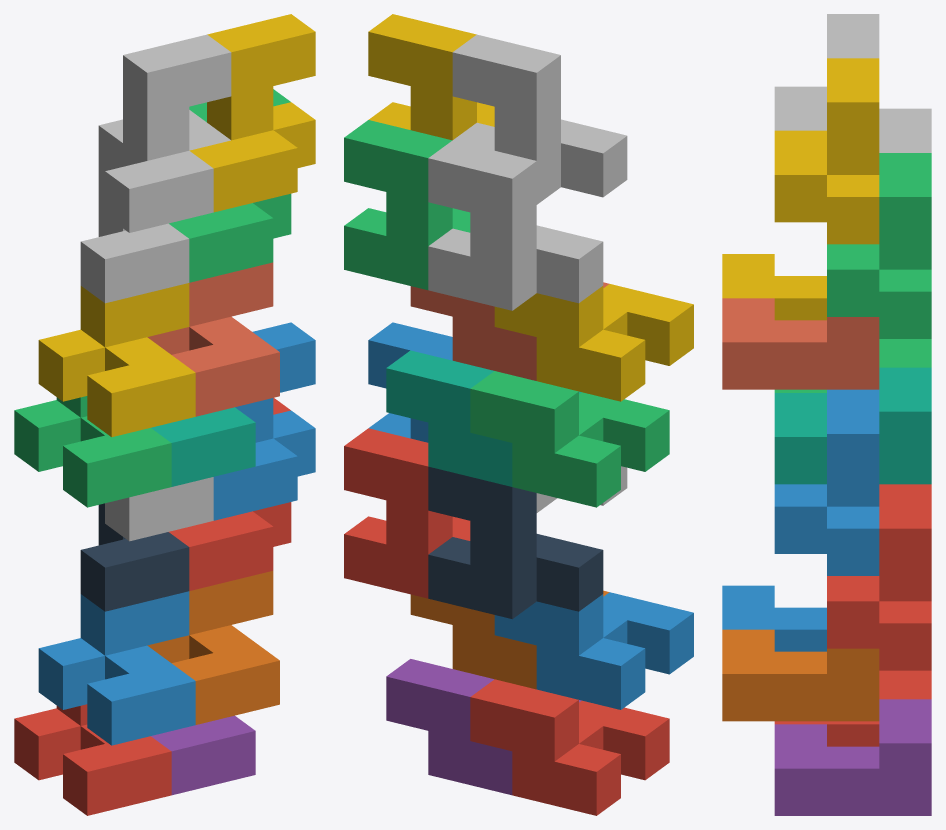
File: tiling.obj
3 renders of one model, left to right at view 1: azimuth 30°, elevation 25°; view 2: azimuth 150°, elevation 25°; view 3: azimuth 270°, elevation 25°, orthographic. The views are drawn at different scales.
Parts seen in each view (by area): view 1: copy_2_domain_4, copy_1_domain_4, copy_1_domain_2, copy_2_domain_8, copy_1_domain_6, copy_1_domain_8, copy_1_domain_1, copy_1_domain_3, copy_2_domain_6, copy_2_domain_3, copy_2_domain_1, copy_2_domain_7 (+4 smaller); view 2: copy_2_domain_3, copy_1_domain_3, copy_1_domain_1, copy_2_domain_1, copy_2_domain_4, copy_1_domain_4, copy_1_domain_2, copy_2_domain_7, copy_2_domain_5, copy_2_domain_8, copy_1_domain_7, copy_1_domain_5 (+3 smaller); view 3: copy_2_domain_8, copy_1_domain_5, copy_2_domain_5, copy_2_domain_7, copy_2_domain_6, copy_1_domain_6, copy_1_domain_8, copy_1_domain_7, copy_2_domain_4, copy_1_domain_2, copy_1_domain_4, copy_1_domain_1 (+2 smaller).
Boxes of the visible parts, x1,y1,x2,y2 form: copy_2_domain_4: (105,34,231,232); copy_1_domain_4: (38,283,195,437); copy_1_domain_2: (38,591,195,745); copy_2_domain_8: (189,14,315,212); copy_1_domain_6: (147,571,279,724); copy_1_domain_8: (147,262,279,416); copy_1_domain_1: (14,704,171,815); copy_1_domain_3: (14,396,171,507); copy_2_domain_6: (213,322,315,520); copy_2_domain_3: (80,110,206,303); copy_2_domain_1: (80,503,189,611); copy_2_domain_7: (169,89,291,282); copy_2_domain_3: (428,140,603,310); copy_1_domain_3: (470,371,669,507); copy_1_domain_1: (470,679,669,815); copy_2_domain_1: (428,466,603,619); copy_2_domain_4: (452,34,627,204); copy_1_domain_4: (494,284,693,401); copy_1_domain_2: (494,592,693,709); copy_2_domain_7: (344,120,470,290); copy_2_domain_5: (344,428,470,598); copy_2_domain_8: (368,14,494,140); copy_1_domain_7: (386,350,581,486); copy_1_domain_5: (386,659,581,795); copy_2_domain_8: (774,58,879,244); copy_1_domain_5: (774,699,931,815); copy_2_domain_5: (827,484,931,670); copy_2_domain_7: (827,153,931,338); copy_2_domain_6: (774,389,879,575); copy_1_domain_6: (722,629,879,721); copy_1_domain_8: (722,298,879,389); copy_1_domain_7: (774,367,931,484); copy_2_domain_4: (774,14,879,130); copy_1_domain_2: (722,585,826,651); copy_1_domain_4: (722,254,826,320); copy_1_domain_1: (774,670,931,746).
Bounding box in the file's own units: 6 × 16 × 4.
